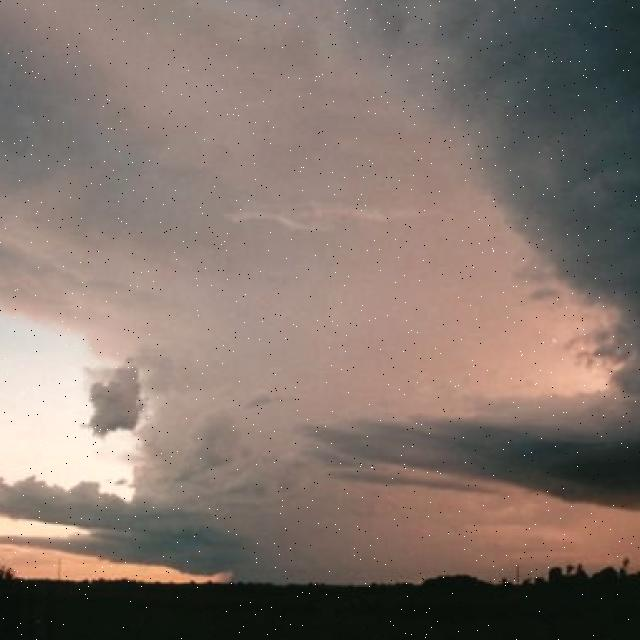Cb: (1, 1, 640, 399)
